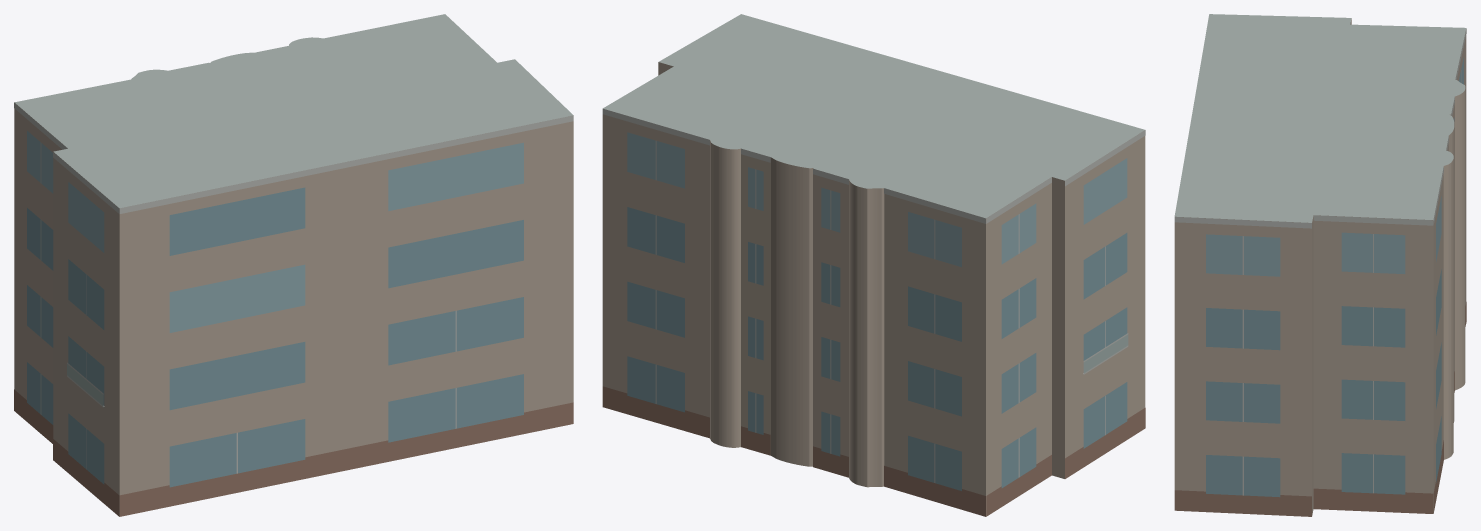
File: survey-upis-32965708.glb
The picture shows the model from 3 angles, left to right: view 1: azimuth 30°, elevation 25°; view 2: azimuth 150°, elevation 25°; view 3: azimuth 270°, elevation 25°; orthographic projection. The views are drawn at different scales.
Visible parts, largest first — view 1: survey-upis-32965708.tmp; view 2: survey-upis-32965708.tmp; view 3: survey-upis-32965708.tmp.
Boxes of the visible parts, x1,y1,x2,y2 form: survey-upis-32965708.tmp: (14,14,573,516); survey-upis-32965708.tmp: (602,14,1145,516); survey-upis-32965708.tmp: (1174,14,1466,516).
Bounding box in the file's own units: 19.52 × 12.8 × 11.53.
